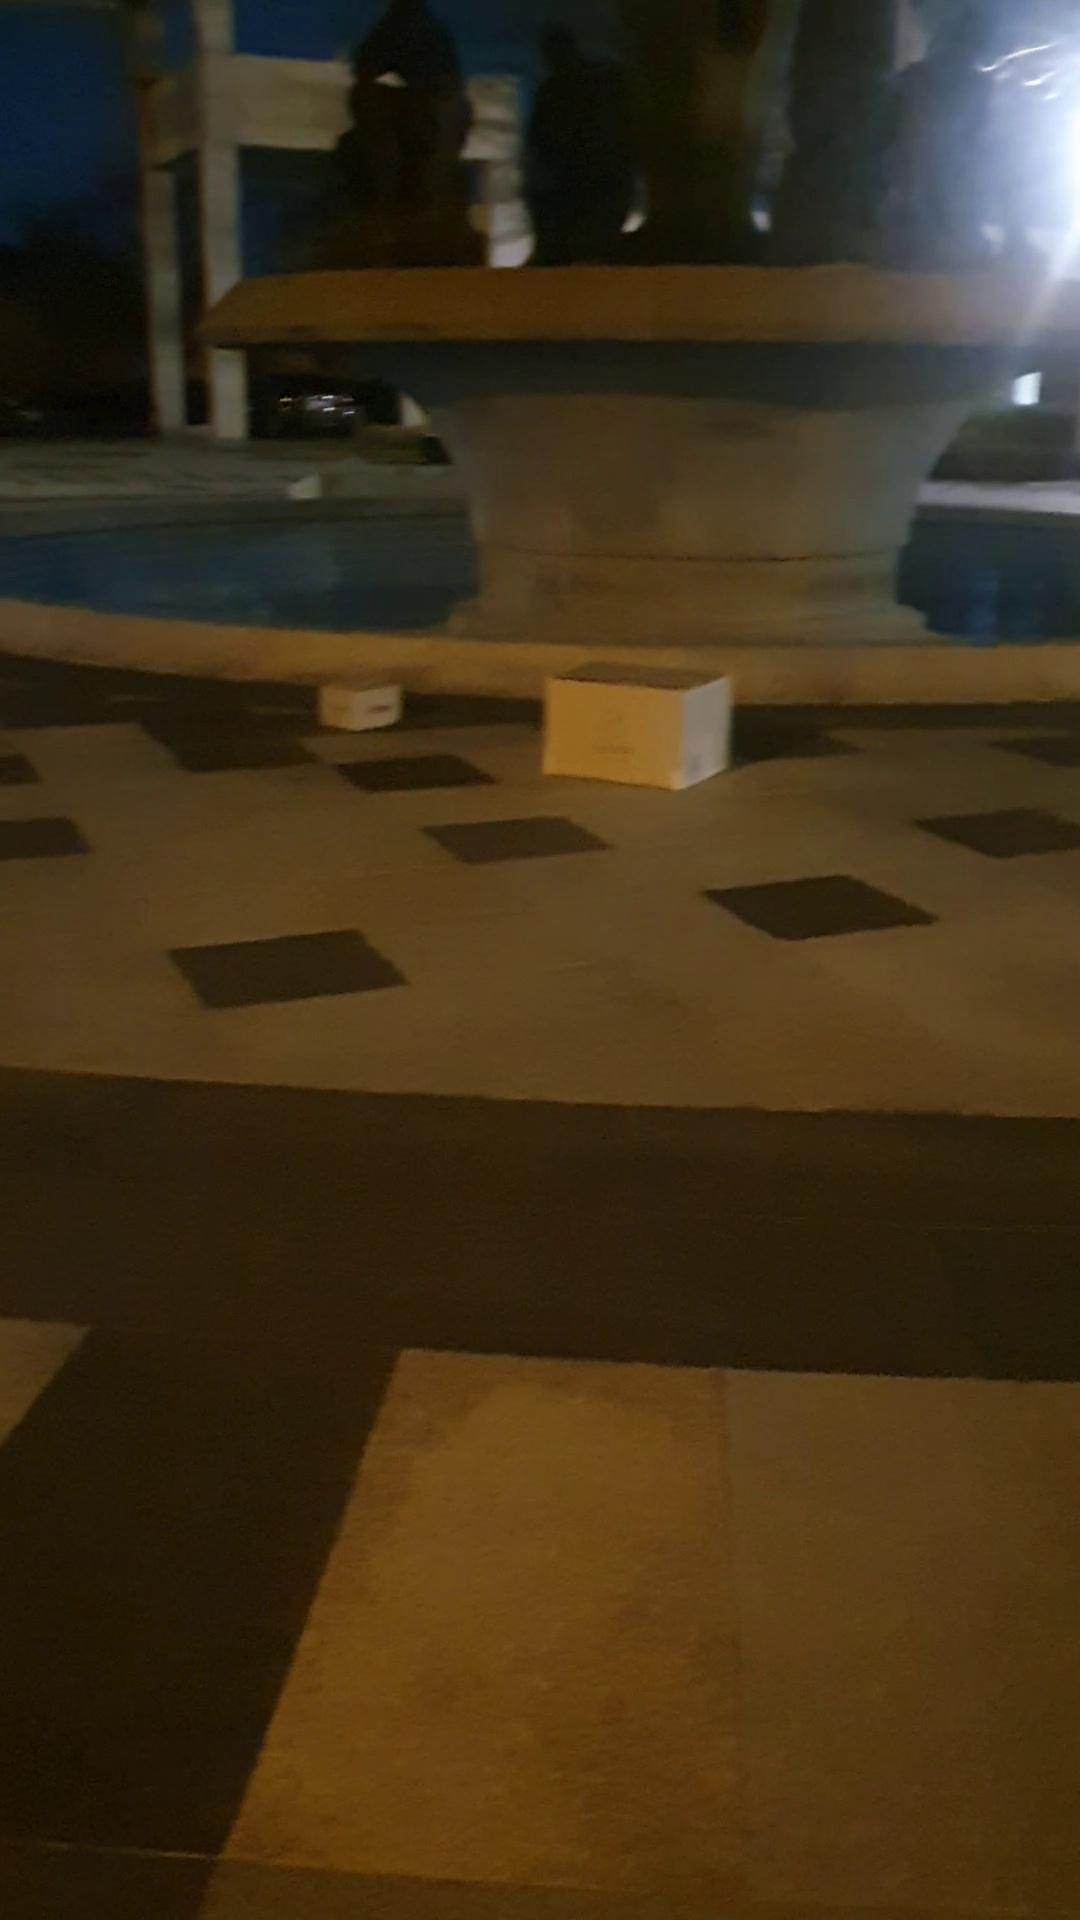Box: (493, 625, 787, 820), (281, 655, 419, 756)
